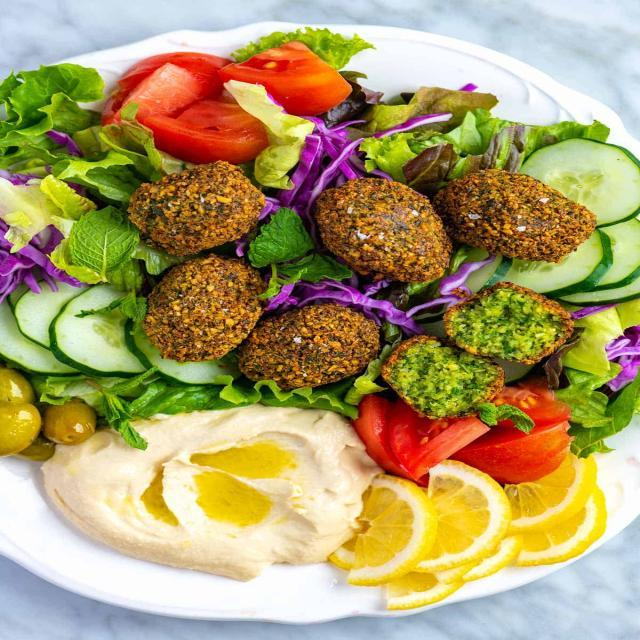flafel: (439, 166, 603, 268), (315, 176, 453, 286), (132, 255, 264, 367), (429, 280, 580, 364), (123, 164, 261, 255), (366, 335, 512, 418)
